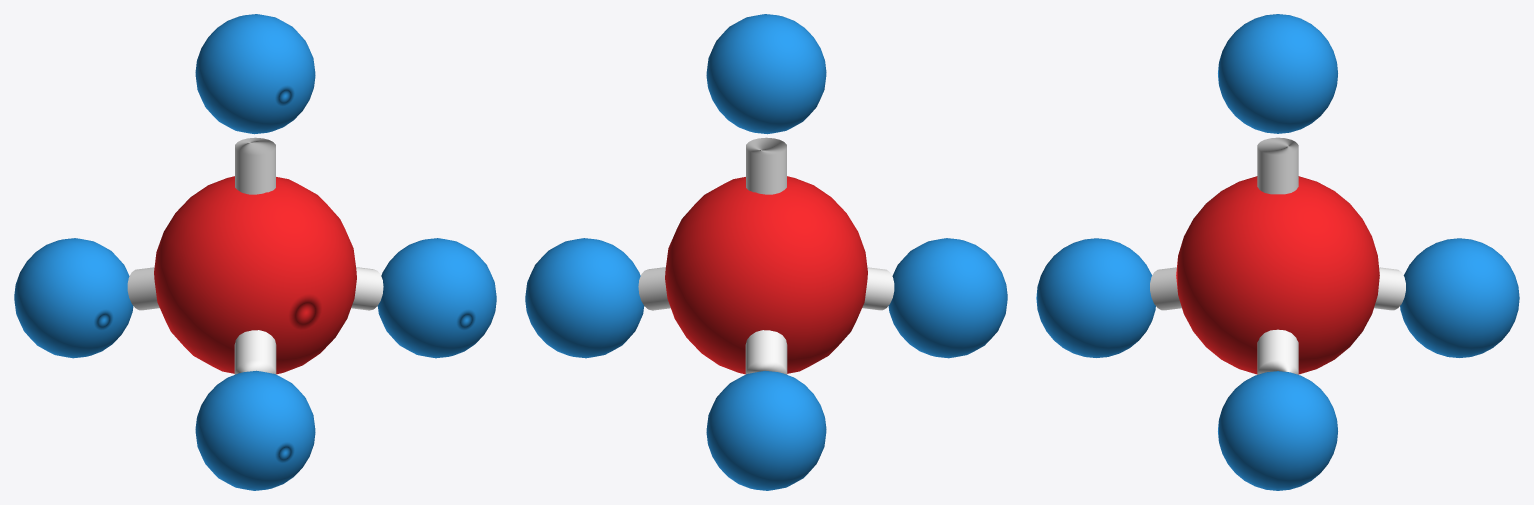
File: methane.glb
3 views of the same model, side by side, from view 1: azimuth 30°, elevation 25°; view 2: azimuth 150°, elevation 25°; view 3: azimuth 270°, elevation 25° (orthographic).
Visible parts, largest first — view 1: Carbon_C, Hydrogen_H1, Hydrogen_H3, Hydrogen_H4, Hydrogen_H2, Bond_C_H1, Bond_C_H3, Bond_C_H4, Bond_C_H2; view 2: Carbon_C, Hydrogen_H1, Hydrogen_H4, Hydrogen_H3, Hydrogen_H2, Bond_C_H1, Bond_C_H4, Bond_C_H3, Bond_C_H2; view 3: Carbon_C, Hydrogen_H1, Hydrogen_H2, Hydrogen_H3, Hydrogen_H4, Bond_C_H1, Bond_C_H2, Bond_C_H3, Bond_C_H4.
Boxes of the visible parts, x1,y1,x2,y2 form: Carbon_C: (154, 176, 356, 374); Hydrogen_H1: (195, 14, 315, 134); Hydrogen_H3: (195, 370, 315, 490); Hydrogen_H4: (14, 238, 133, 358); Hydrogen_H2: (377, 238, 496, 358); Bond_C_H1: (235, 137, 275, 194); Bond_C_H3: (234, 330, 276, 374); Bond_C_H4: (127, 267, 159, 310); Bond_C_H2: (351, 267, 383, 310); Carbon_C: (665, 176, 867, 374); Hydrogen_H1: (706, 14, 826, 134); Hydrogen_H4: (706, 370, 826, 490); Hydrogen_H3: (888, 238, 1007, 358); Hydrogen_H2: (525, 238, 644, 358); Bond_C_H1: (746, 137, 786, 194); Bond_C_H4: (745, 330, 787, 374); Bond_C_H3: (862, 267, 894, 310); Bond_C_H2: (638, 267, 670, 310); Carbon_C: (1176, 176, 1379, 374); Hydrogen_H1: (1218, 14, 1337, 133); Hydrogen_H2: (1218, 371, 1337, 490); Hydrogen_H3: (1036, 238, 1155, 357); Hydrogen_H4: (1400, 238, 1519, 357); Bond_C_H1: (1257, 137, 1298, 194); Bond_C_H2: (1257, 329, 1298, 374); Bond_C_H3: (1150, 267, 1181, 310); Bond_C_H4: (1374, 267, 1405, 310).
Bounding box in the file's own units: 0.9388 × 0.9 × 1.04.
